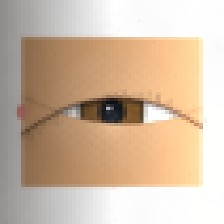pterygium_lesion: (24, 100, 55, 124)
